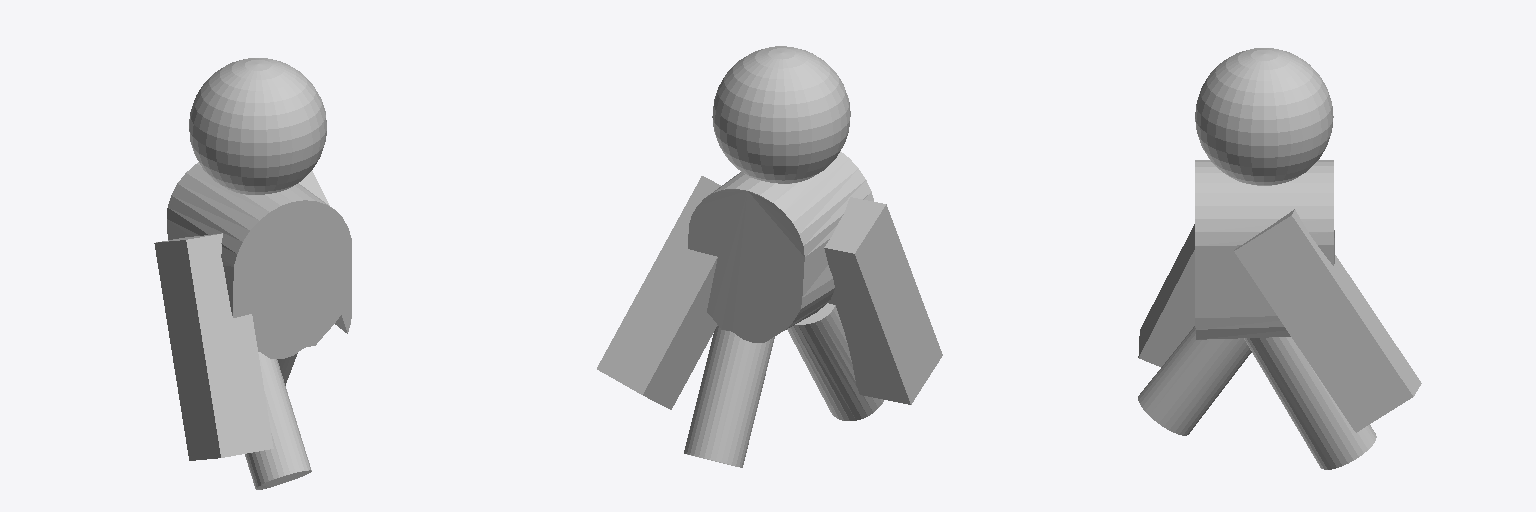
Rendered from Figurine68.obj.
3 views of the same model, side by side, from view 1: azimuth 30°, elevation 25°; view 2: azimuth 150°, elevation 25°; view 3: azimuth 270°, elevation 25° (orthographic).
Parts seen in each view (by area): view 1: Cylinder; view 2: Cylinder; view 3: Cylinder.
Part boxes in pixels (left/top/right/bottom): Cylinder: left=154, top=58, right=351, bottom=489; Cylinder: left=597, top=46, right=942, bottom=467; Cylinder: left=1138, top=48, right=1421, bottom=469.
Size of the model in its own units: 3.49 by 6.34 by 4.09.